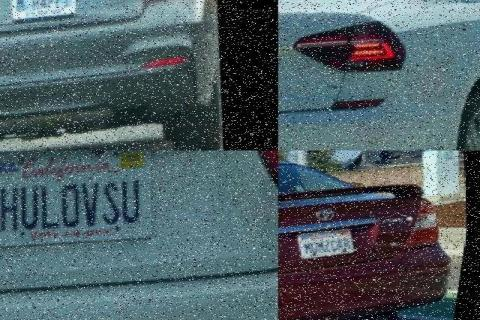LicensePlate: (0, 150, 172, 260), (9, 0, 84, 26), (278, 47, 316, 98), (299, 228, 358, 260)
